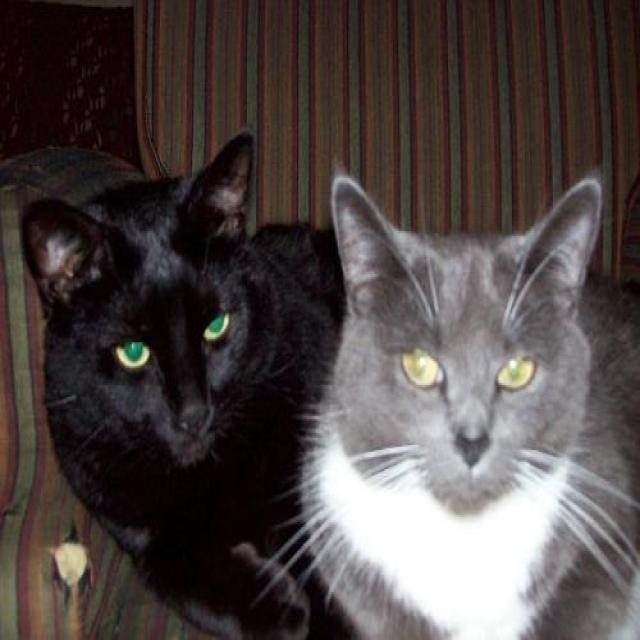Cats: (233, 163, 639, 638), (19, 128, 347, 638)
